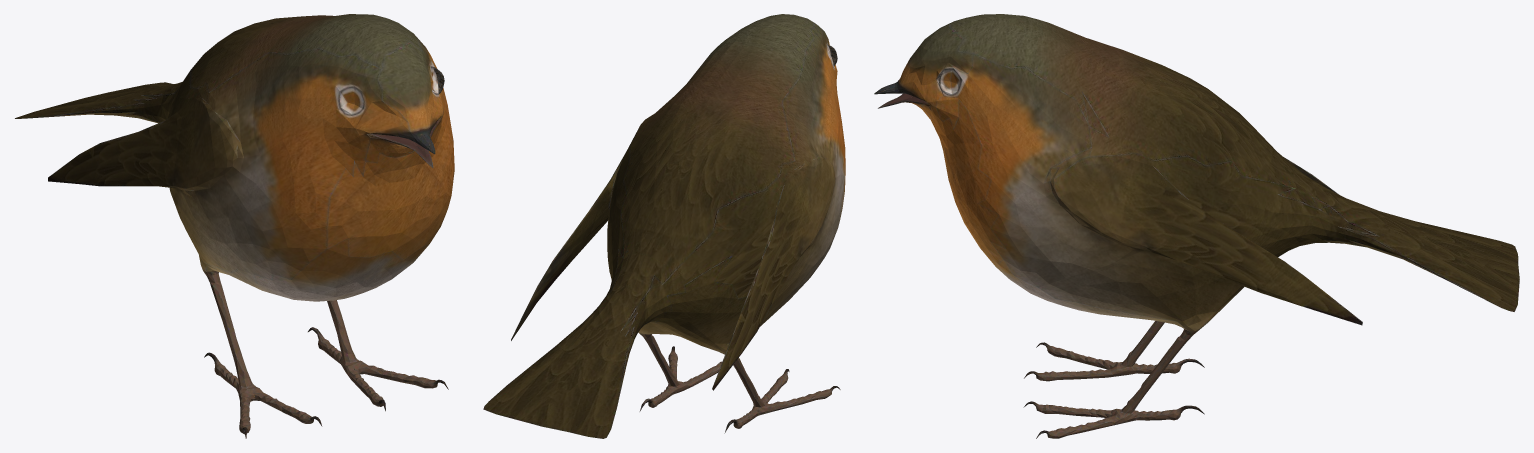
The model's file is robin.glb.
The picture shows the model from 3 angles, left to right: view 1: azimuth 30°, elevation 25°; view 2: azimuth 150°, elevation 25°; view 3: azimuth 270°, elevation 25°; orthographic projection. The views are drawn at different scales.
Bounding box in the file's own units: 1.03 × 1.61 × 2.5.
1 material, 1 textured.
